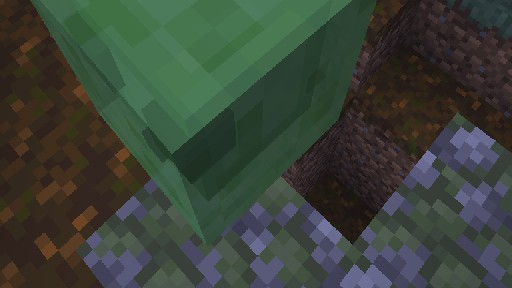slime: (7, 0, 386, 246)
